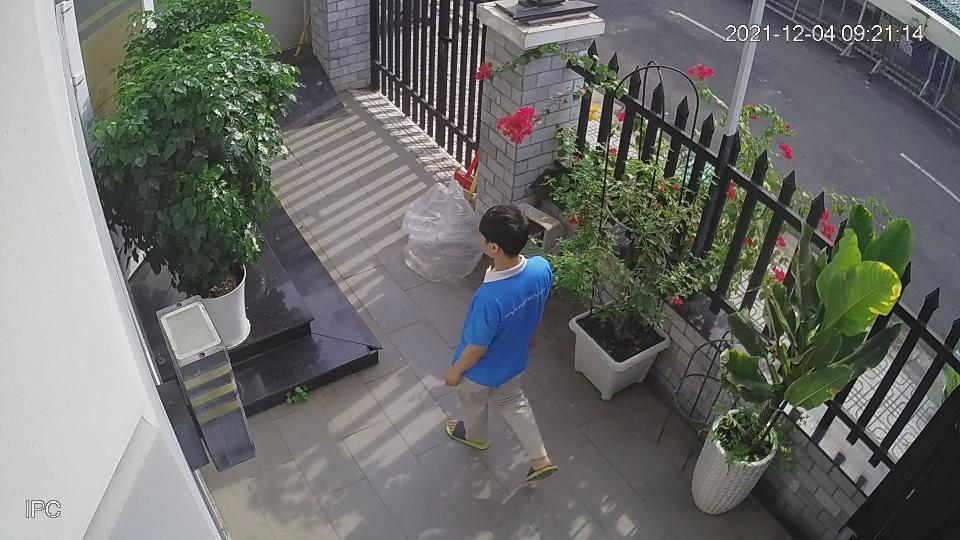person: (453, 203, 559, 483)
